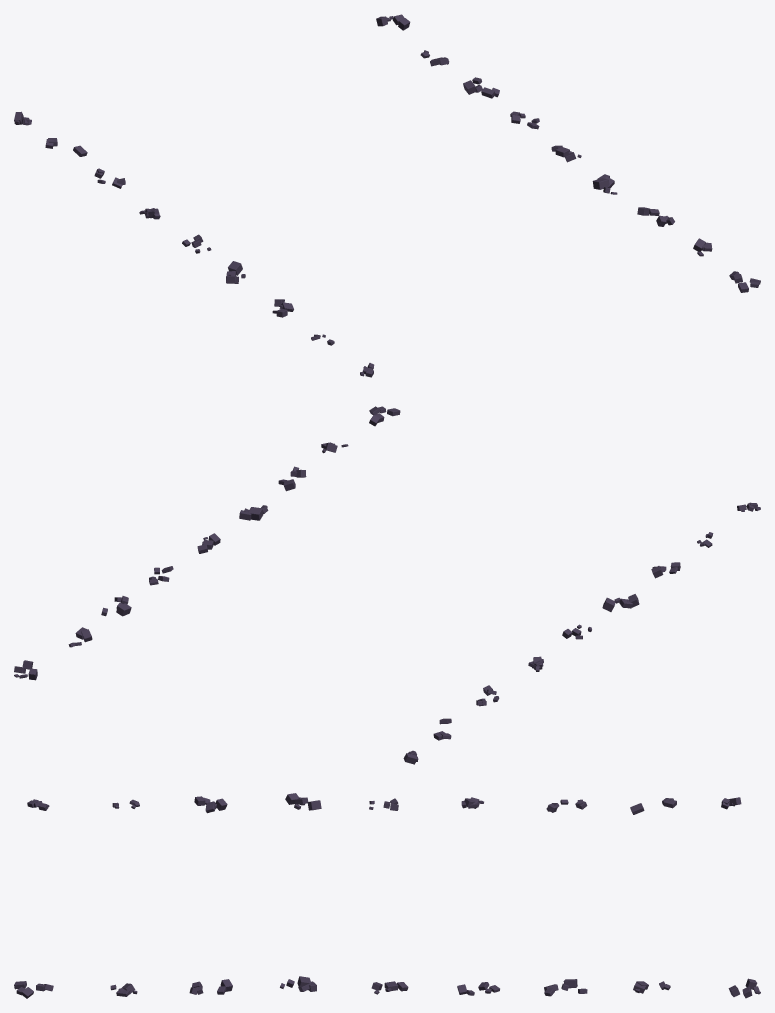
File: Rubble_StoneDark.fbx
3 renders of one model, top to bottom at view 1: azimuth 30°, elevation 25°; view 2: azimuth 150°, elevation 25°; view 3: azimuth 270°, elevation 25°, orthographic.
Parts seen in each view (by area): view 1: Rubble-1_0_0.001; view 2: Rubble-1_0_0.001; view 3: Rubble-1_0_0.001.
Part boxes in pixels (x1=…): Rubble-1_0_0.001: x1=14, y1=14, x2=760, y2=377; Rubble-1_0_0.001: x1=14, y1=406, x2=760, y2=764; Rubble-1_0_0.001: x1=14, y1=793, x2=760, y2=998.
Size of the model in its own units: 12751 by 339 by 20257.
